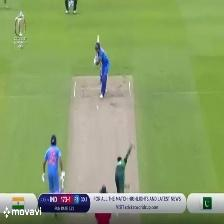ball: (94, 103, 100, 112)
batsman: (91, 31, 112, 100)
